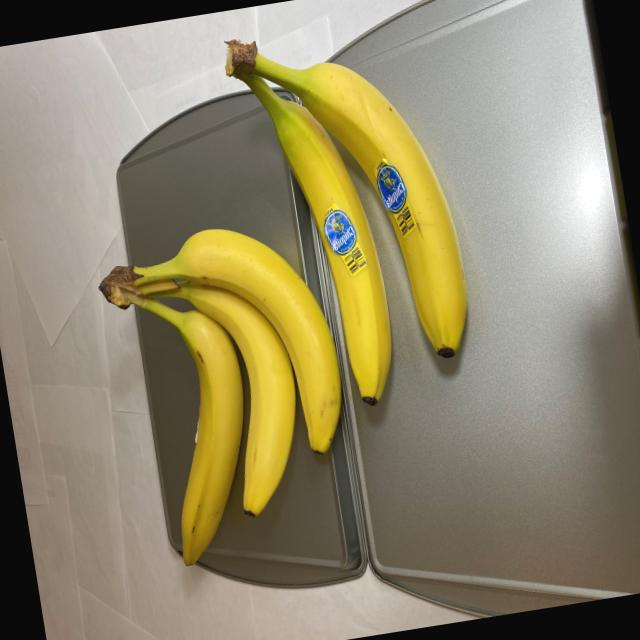banana: (220, 5, 484, 428), (86, 206, 366, 580)
